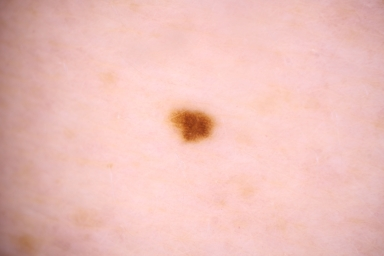melanoma: (166, 102, 218, 144)
